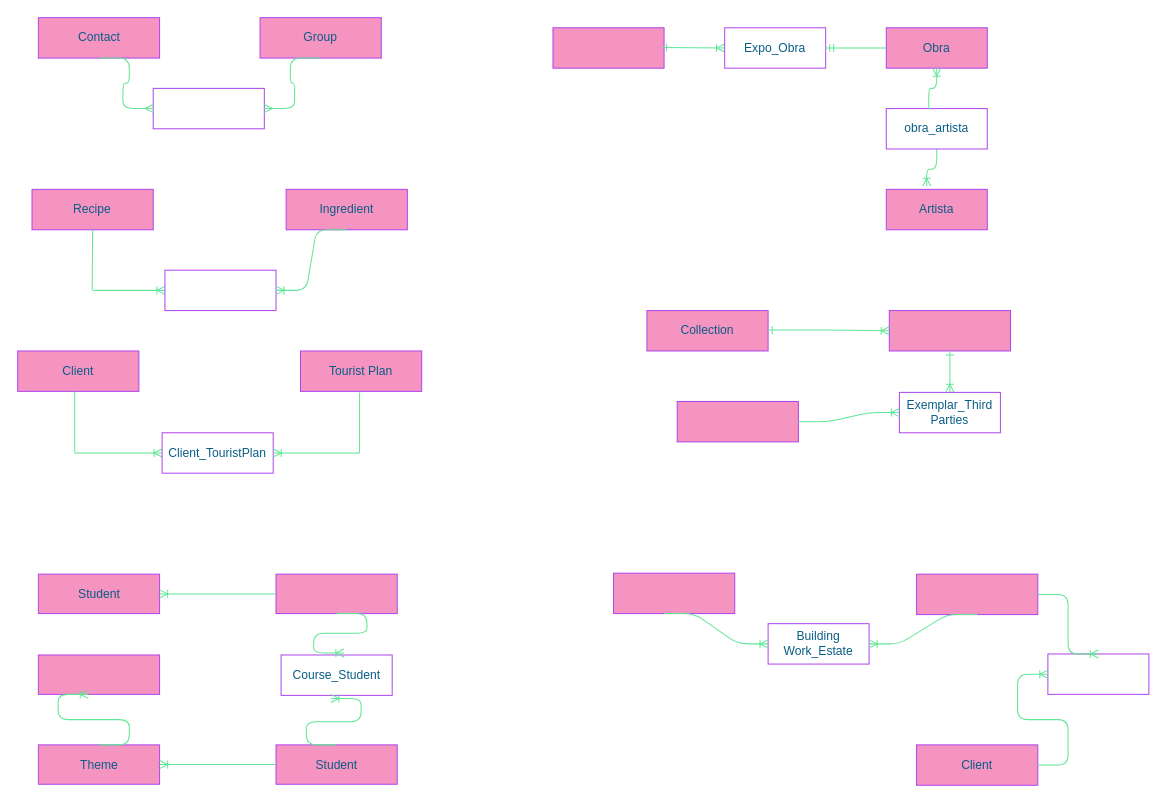
The diagram is 1167 pixels wide and 803 high, and some of its shapes have lost their labels. Here are the shapes that lost their labels. From the top down, the centre of each, then its label:
At [608,47]: "Expo".
At [208,108]: "Contact_Group".
At [220,290]: "Recipe_Ingredient".
At [949,330]: "Exemplar".
At [737,421]: "Third Parties".
At [336,593]: "Course".
At [674,593]: "Building Work".
At [977,594]: "Estate".
At [98,674]: "Activities".
At [1098,673]: "Estate_Client".
